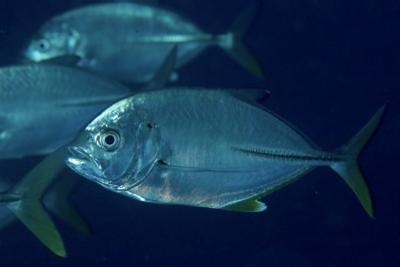Carangidae -Jacks-: (65, 81, 385, 219)
